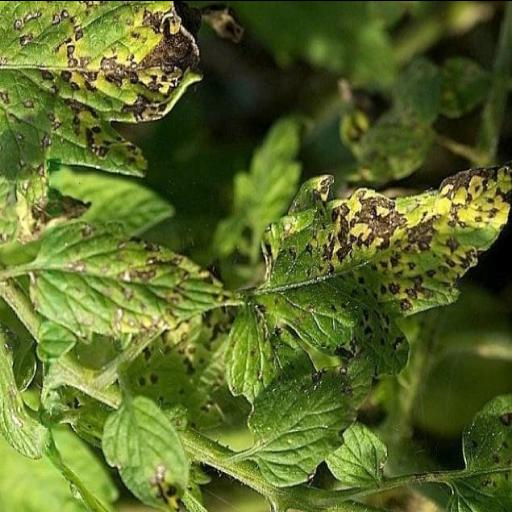Septoria: (252, 165, 512, 383), (0, 0, 204, 255), (28, 224, 248, 342), (248, 366, 360, 484), (94, 393, 190, 512)
